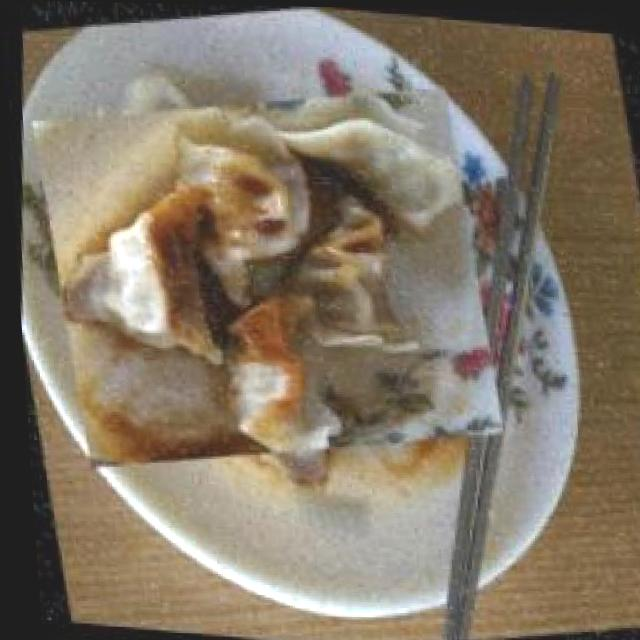fried_dumplings: (15, 35, 513, 516)
